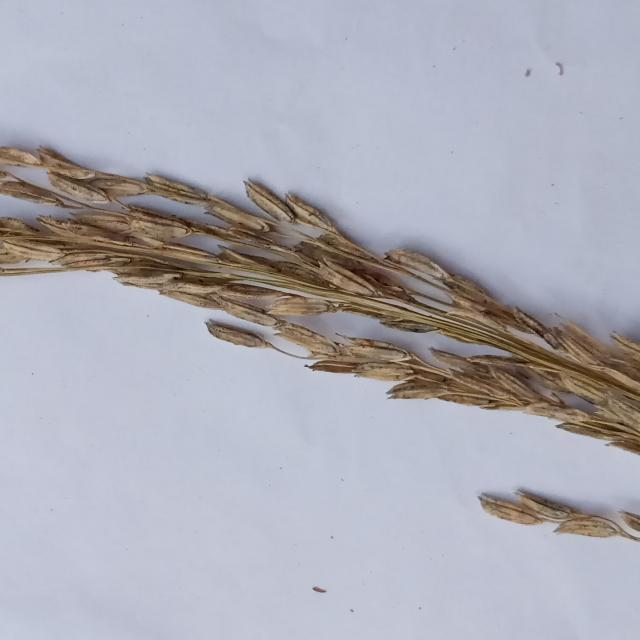Neck_Blast: (0, 121, 638, 499)
